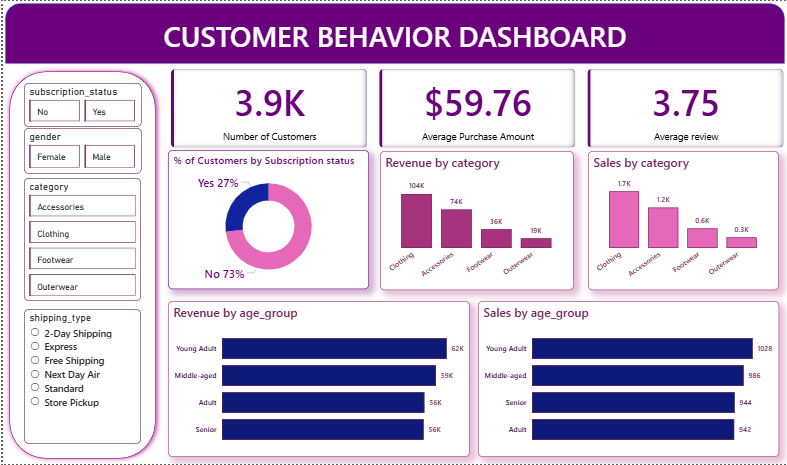

This screenshot's page, from the dashboard's own definition file:
{"tool":"powerbi","page":{"name":"Page 1","canvas":[1306,771],"ordinal":0},"visuals":[{"type":"cardVisual","fields":{"Data":["customer.Number of Customers","customer.Average Purchase Amount","customer.Average review"]},"box":[275,108.3,1031.7,141.7],"z":0},{"type":"shape","box":[0,0,1306.7,108.3],"z":1000},{"type":"shape","box":[1.7,108.3,261.7,663.3],"z":2000},{"type":"donutChart","title":"% of Customers by Subscription status","fields":{"Category":["customer.subscription_status"],"Y":["CountNonNull(customer.customer_id)"]},"box":[275,248.3,335,231.7],"z":3000},{"type":"columnChart","fields":{"Y":["customer.Revenue"],"Category":["customer.category"]},"box":[628.3,250,323.3,231.7],"z":4000},{"type":"columnChart","title":"Sales by category","fields":{"Category":["customer.category"],"Y":["CountNonNull(customer.customer_id)"]},"box":[975,250,318.3,231.7],"z":5000},{"type":"barChart","fields":{"Category":["customer.age_group"],"Y":["customer.Revenue"]},"box":[275,500,503.3,260],"z":6000},{"type":"barChart","title":"Sales by age_group","fields":{"Category":["customer.age_group"],"Y":["CountNonNull(customer.customer_id)"]},"box":[791.7,500,501.7,260],"z":7000},{"type":"advancedSlicerVisual","fields":{"Values":["customer.subscription_status"]},"box":[34.4,135.9,195.7,73.2],"z":8000},{"type":"advancedSlicerVisual","fields":{"Values":["customer.gender"]},"box":[34.2,210.8,195.8,75.8],"z":9000},{"type":"advancedSlicerVisual","fields":{"Values":["customer.category"]},"box":[35,295,195,205],"z":10000},{"type":"listSlicer","fields":{"Values":["customer.shipping_type"]},"box":[35,513.3,195,225],"z":10001}]}

Visuals, with their boxes in screenshot pixels (x1, y1, x2, y2), scaled from the page's 1306x771 canvas onto the 787x465 screenshot:
cardVisual - customer.Number of Customers x customer.Average Purchase Amount: crop(166, 65, 786, 151)
shape: crop(0, 0, 786, 65)
shape: crop(1, 65, 159, 464)
"% of Customers by Subscription status" donutChart: crop(166, 150, 368, 289)
columnChart - customer.Revenue x customer.category: crop(379, 151, 573, 291)
"Sales by category" columnChart: crop(588, 151, 779, 291)
barChart - customer.age_group x customer.Revenue: crop(166, 302, 469, 458)
"Sales by age_group" barChart: crop(477, 302, 779, 458)
advancedSlicerVisual - customer.subscription_status: crop(21, 82, 139, 126)
advancedSlicerVisual - customer.gender: crop(21, 127, 139, 173)
advancedSlicerVisual - customer.category: crop(21, 178, 139, 302)
listSlicer - customer.shipping_type: crop(21, 310, 139, 445)
